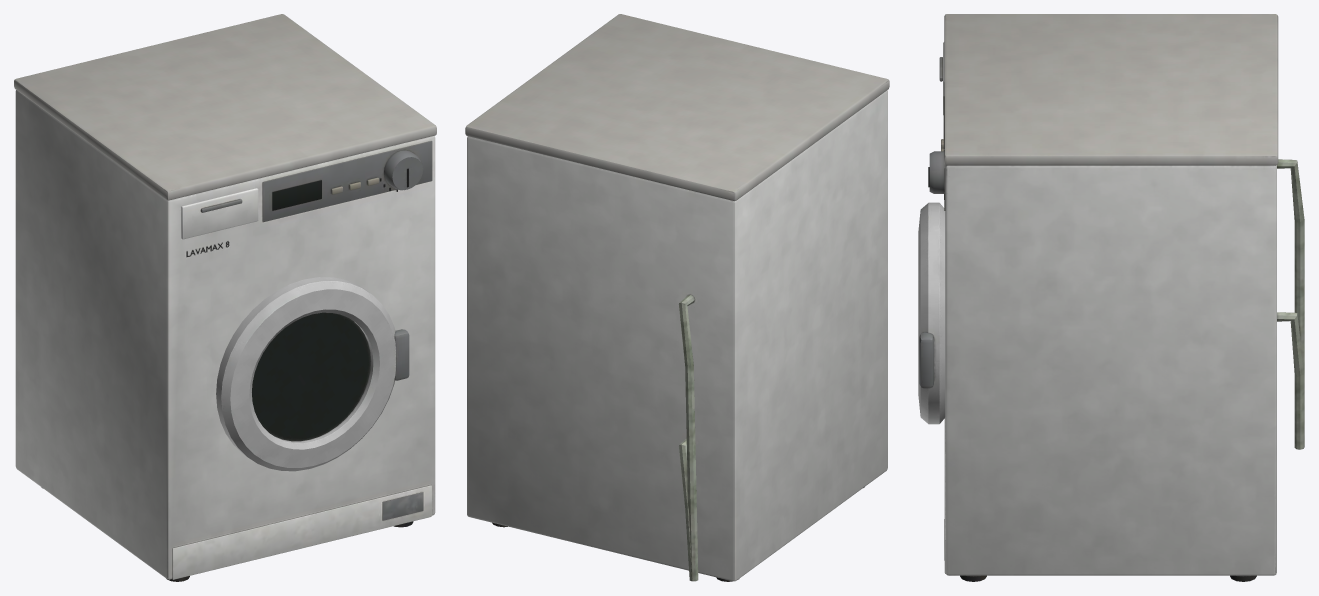
File: maquina_lavar.glb
3 views of the same model, side by side, from view 1: azimuth 30°, elevation 25°; view 2: azimuth 150°, elevation 25°; view 3: azimuth 270°, elevation 25° (orthographic). The views are drawn at different scales.
Visible parts, largest first — view 1: maquina, porta, gaveta_sabao; view 2: maquina; view 3: maquina, porta.
Part boxes in pixels (box(x1,y1,x2,y2)): maquina: box(14, 14, 436, 581); porta: box(216, 277, 409, 471); gaveta_sabao: box(181, 188, 258, 239); maquina: box(465, 14, 889, 581); maquina: box(928, 14, 1304, 581); porta: box(918, 202, 945, 424).
Size of the model in its own units: 0.6 by 0.85 by 0.6869.
Materials: 2 (2 with a texture image).
